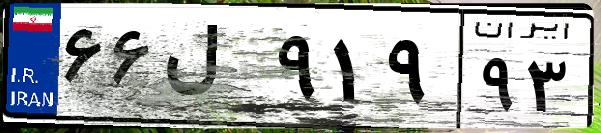1: (330, 28, 385, 110)
3: (525, 38, 570, 115)
6: (57, 26, 110, 100), (110, 28, 158, 98)
9: (270, 28, 330, 110), (385, 28, 445, 110), (475, 38, 525, 113)
ل: (158, 20, 270, 120)
